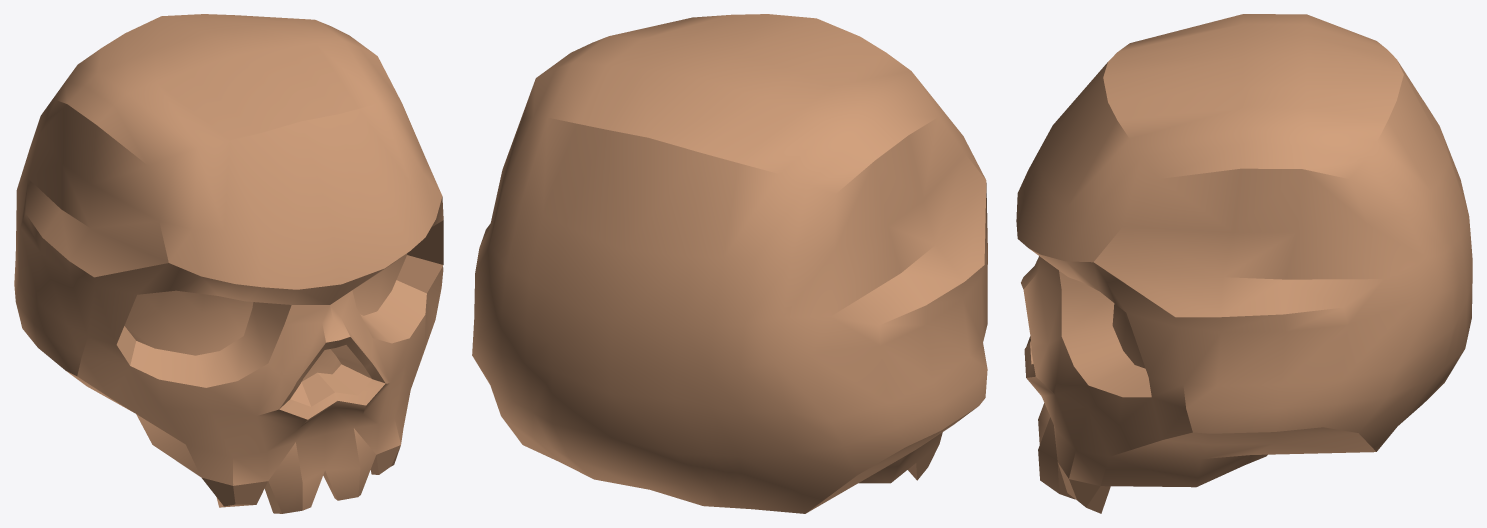
Rendered from Prop_Skull.glb.
The picture shows the model from 3 angles, left to right: view 1: azimuth 30°, elevation 25°; view 2: azimuth 150°, elevation 25°; view 3: azimuth 270°, elevation 25°; orthographic projection. The views are drawn at different scales.
Parts seen in each view (by area): view 1: Prop_Skull; view 2: Prop_Skull; view 3: Prop_Skull.
Part boxes in pixels (x1,y1,x2,y2): Prop_Skull: [14, 14, 443, 513]; Prop_Skull: [472, 14, 987, 513]; Prop_Skull: [1016, 14, 1472, 513].
Size of the model in its own units: 0.4838 by 0.4846 by 0.4762.
1 material, 1 textured.
